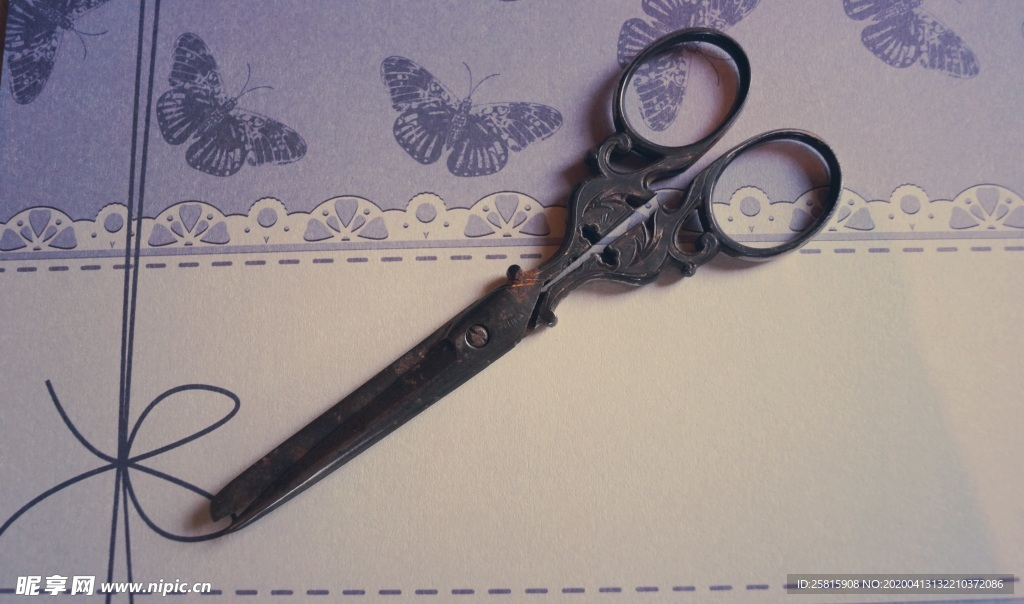scissors: (150, 21, 849, 537)
